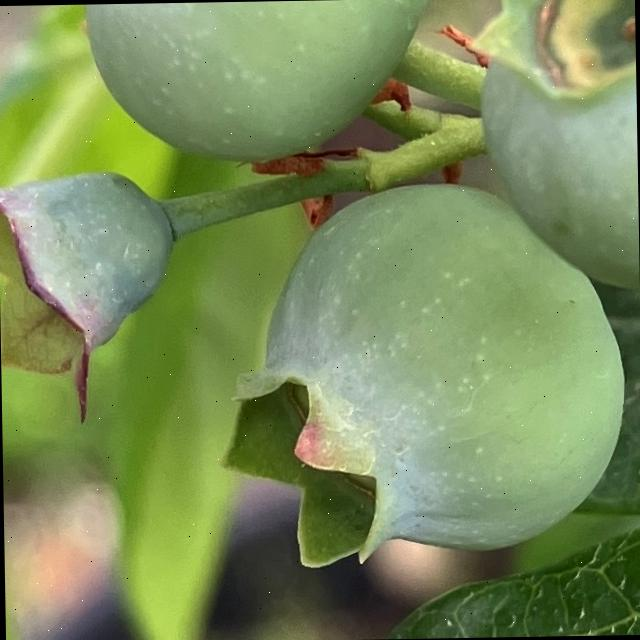Blueberries: (250, 172, 632, 562), (70, 0, 448, 168), (470, 0, 639, 299)
